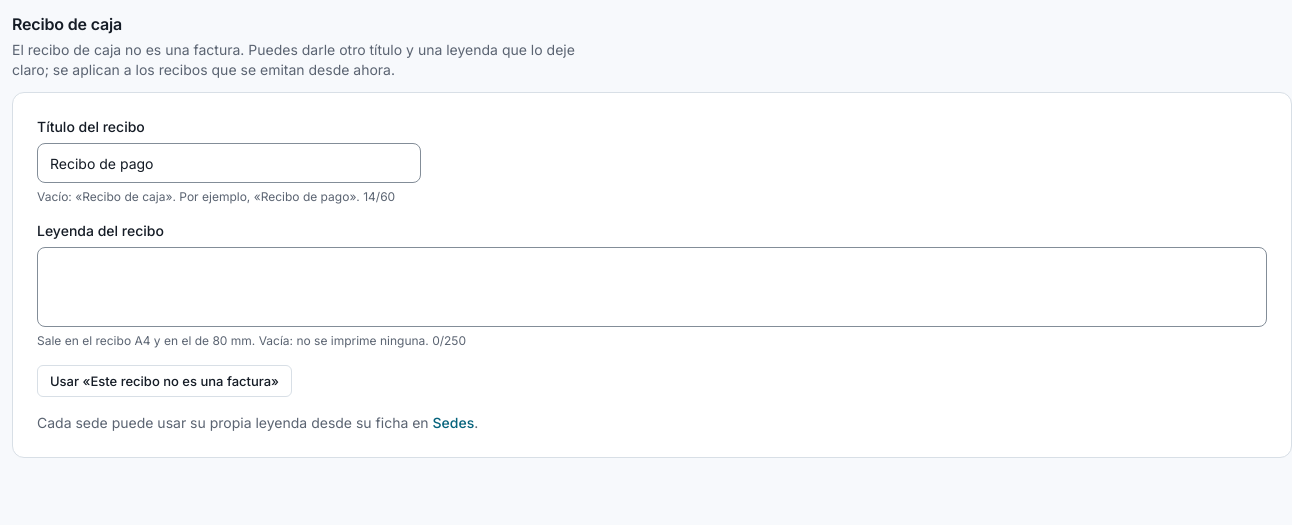
Test case: Ajustes › Caja › Recibo de caja (DX-515) › un 400 de la API va junto al campo
The width and height of the screenshot is (1292, 525).
Type "x" into the text box labelled "Leyenda del recibo".
click(652, 287); type("x")  # box [37,247,1267,327]
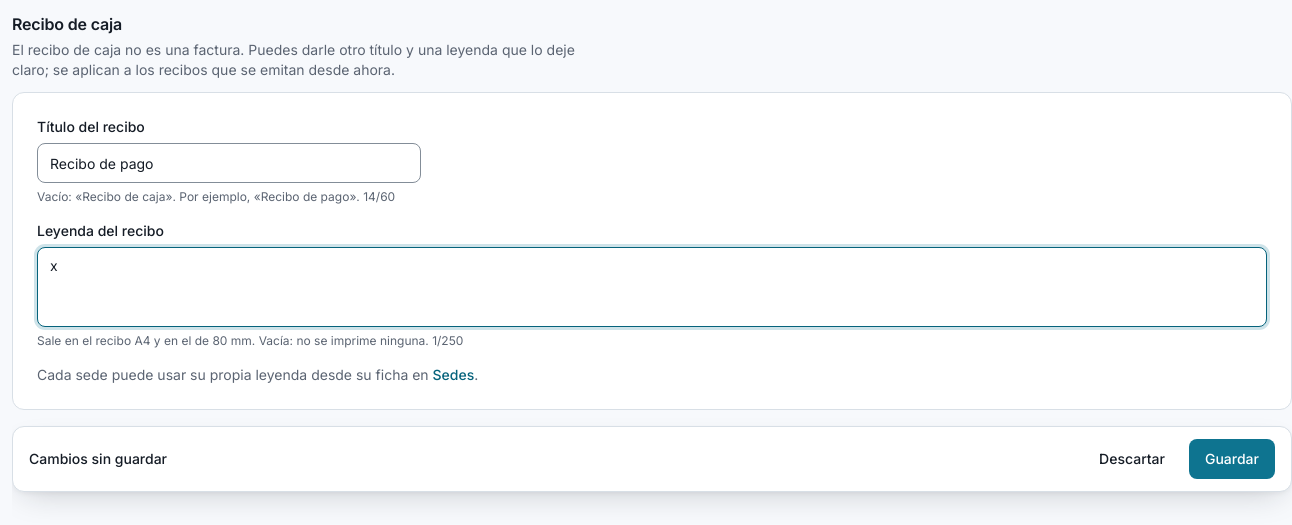
Click the button with aria-label "Guardar el título y la leyenda del recibo".
click(1232, 459)  # box [1189,439,1275,479]
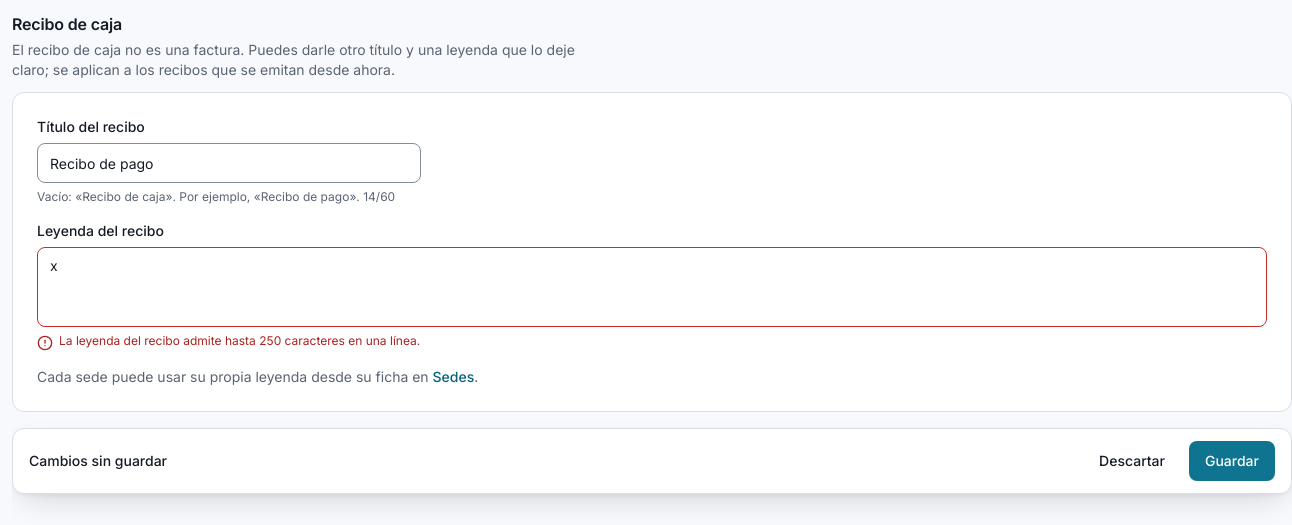
expect the text "admite hasta 250" is shown: met, box [59,333,420,348]
